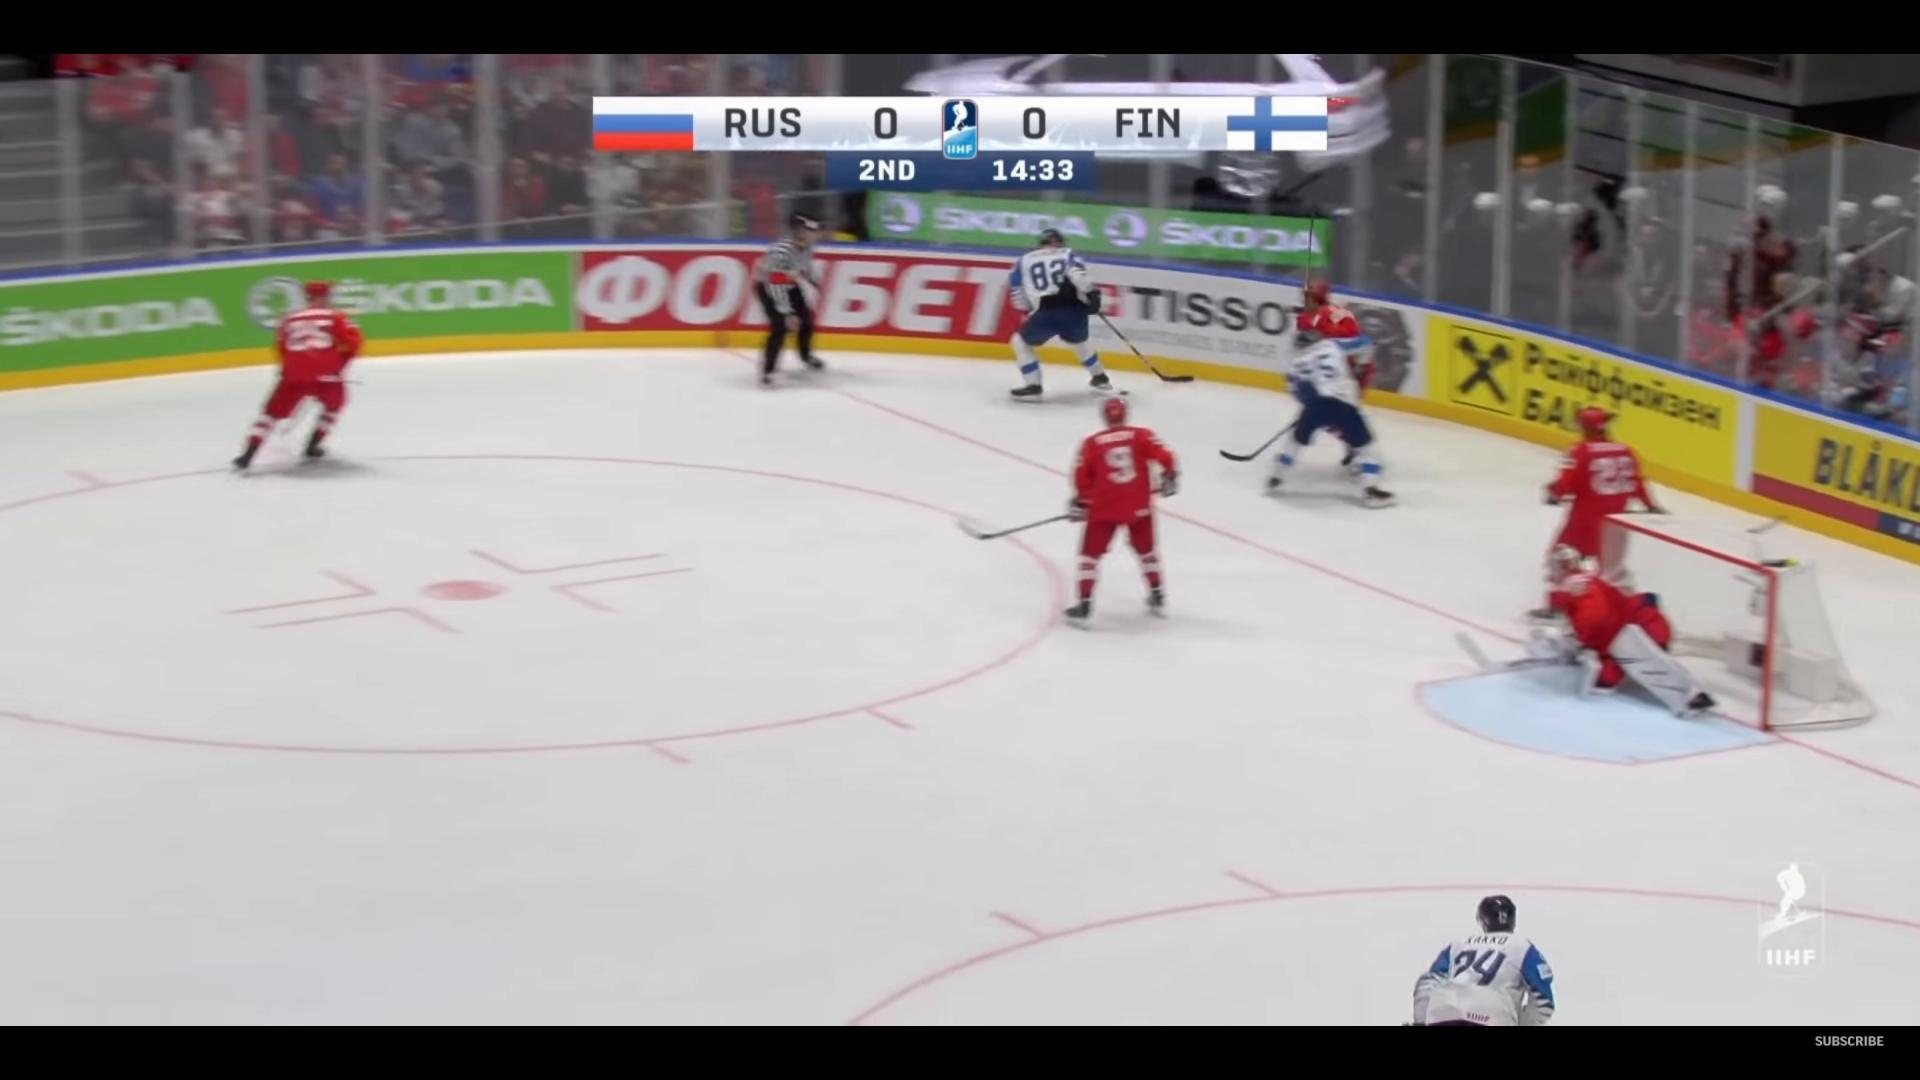puck: (1118, 389, 1129, 396)
